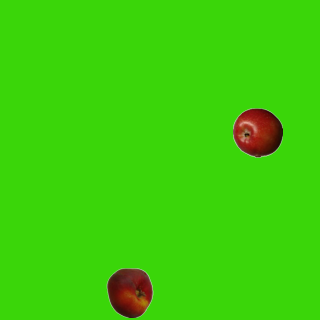Apple Braeburn: (232, 107, 282, 157)
Nectarine Flat: (104, 267, 154, 317)
